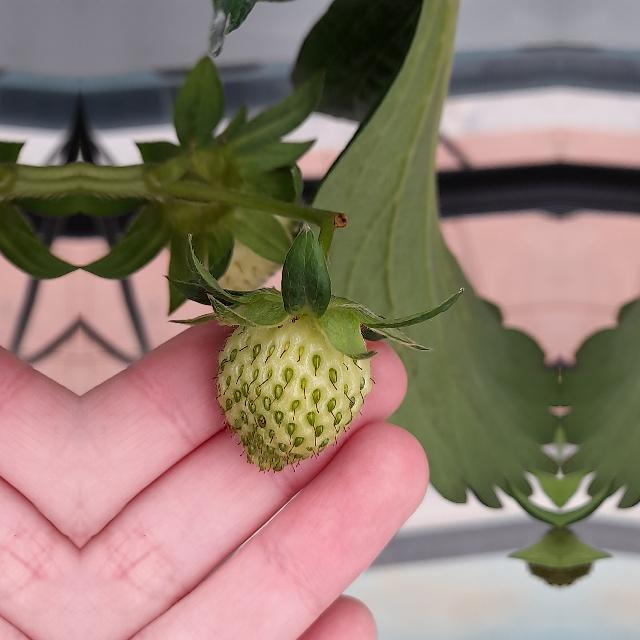Health_25: (216, 314, 372, 472)
